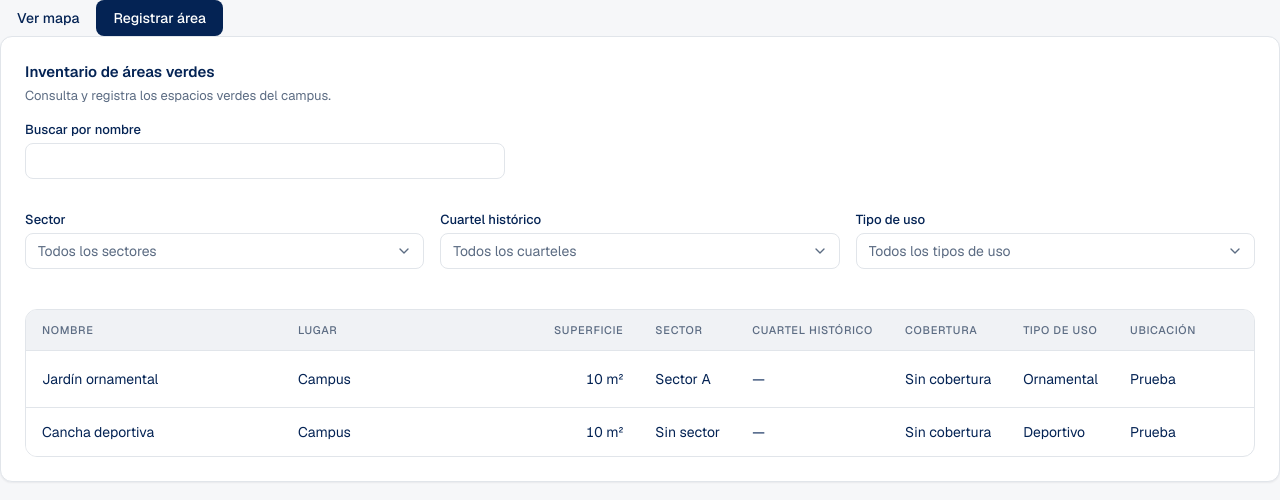
Test: AreasVerdesPage › aplica el tipo de uso elegido en la consulta y muestra la clasificación de cada resultado
Expected: the text "Jardín ornamental" is shown, [26,350,282,408]
Expected: the text "Cancha deportiva" is shown, [26,408,282,456]
Select "Deportivo" in the dropdown labelled "Tipo de uso" at (1055, 251), box [856,233,1255,269]
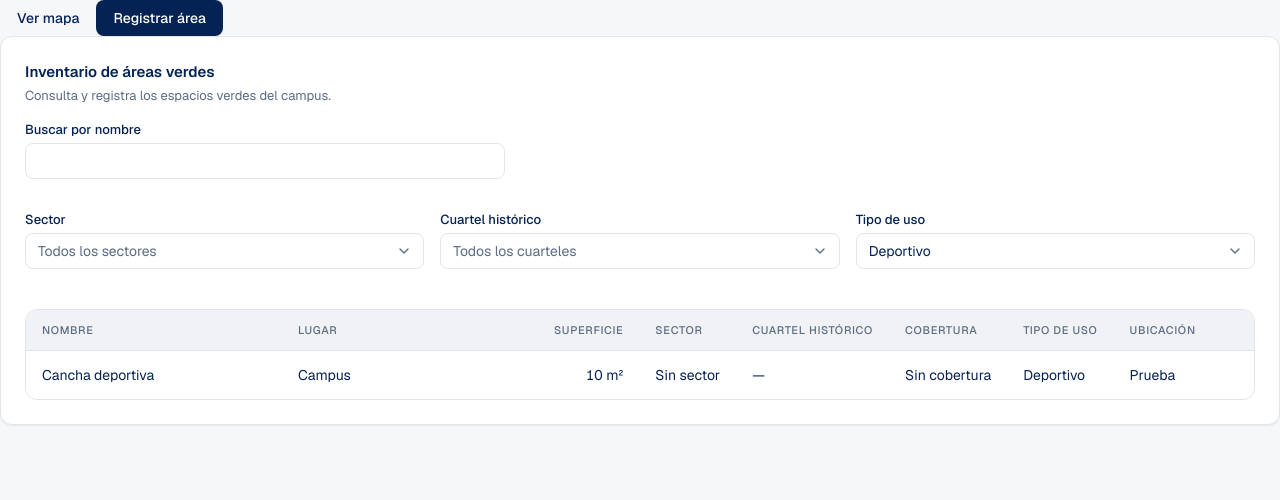
Expected: the text "Cancha deportiva" is shown, [26,350,282,398]
Expected: the text "Jardín ornamental" is gone
